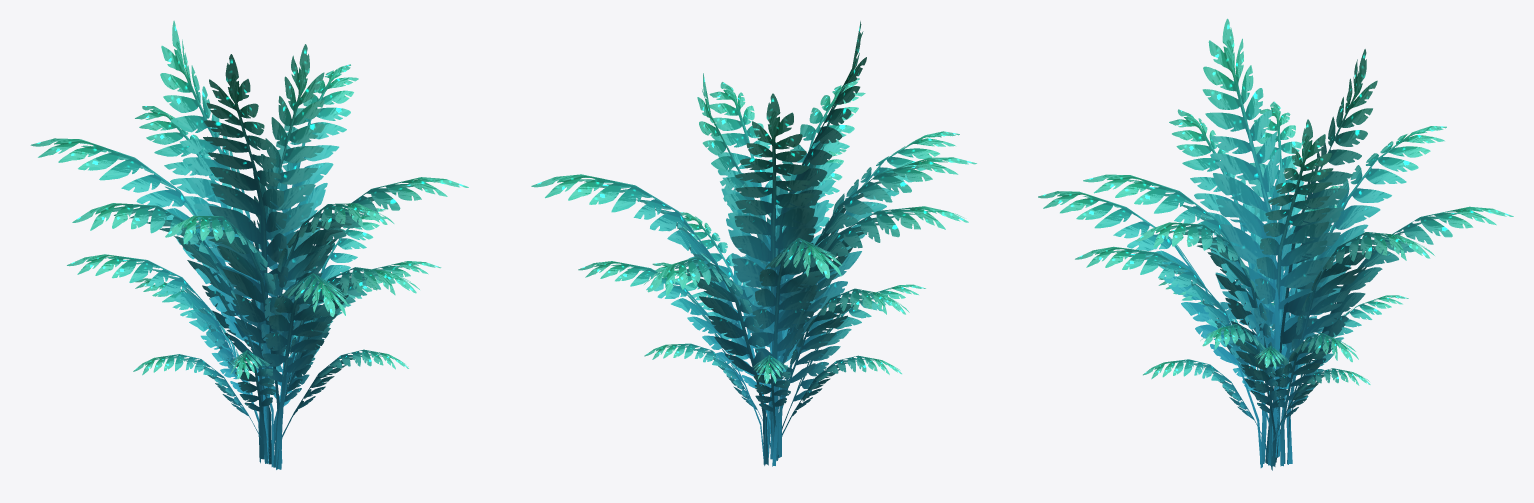
The model's file is SM_ENV_plant_ancient_19_01.fbx.
The picture shows the model from 3 angles, left to right: view 1: azimuth 30°, elevation 25°; view 2: azimuth 150°, elevation 25°; view 3: azimuth 270°, elevation 25°; orthographic projection. The views are drawn at different scales.
Parts seen in each view (by area): view 1: SM_ENV_plant_ancient_19_01_LOD0; view 2: SM_ENV_plant_ancient_19_01_LOD0; view 3: SM_ENV_plant_ancient_19_01_LOD0.
Part boxes in pixels (x1,y1,x2,y2): SM_ENV_plant_ancient_19_01_LOD0: [30, 20, 468, 469]; SM_ENV_plant_ancient_19_01_LOD0: [531, 21, 976, 466]; SM_ENV_plant_ancient_19_01_LOD0: [1038, 18, 1513, 470].
Bounding box in the file's own units: 349 × 384 × 405.
